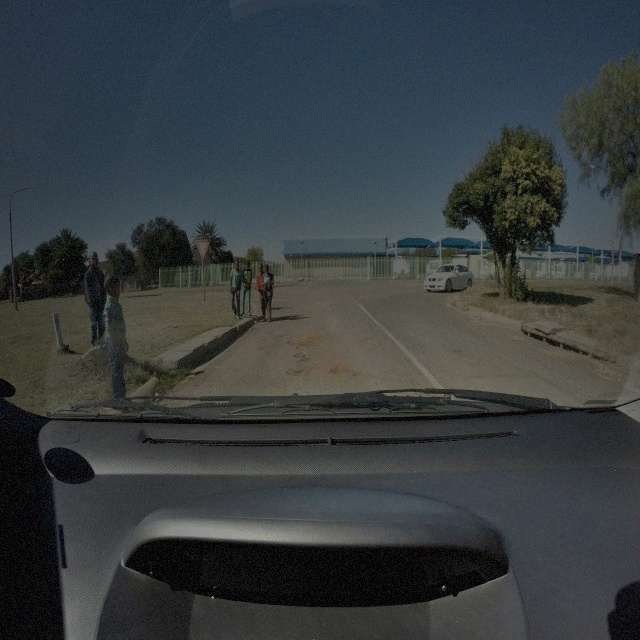pothole: (287, 331, 329, 349), (328, 364, 349, 376)
